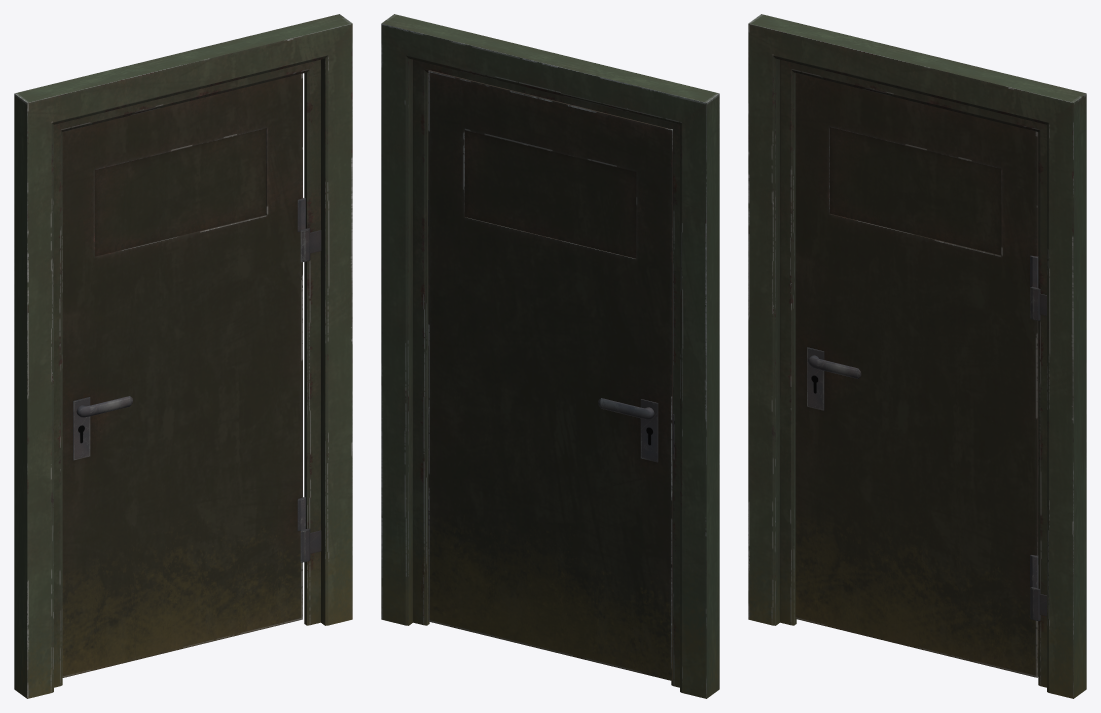
Rendered from door.glb.
3 renders of one model, left to right at view 1: azimuth 30°, elevation 25°; view 2: azimuth 150°, elevation 25°; view 3: azimuth 330°, elevation 25°, orthographic.
Parts seen in each view (by area): view 1: door, frame, handle; view 2: door, frame, handle; view 3: door, frame, handle.
Part boxes in pixels (box(x1,y1,x2,y2)): door: box(62, 73, 305, 677); frame: box(14, 14, 352, 698); handle: box(76, 396, 132, 417); door: box(428, 70, 674, 680); frame: box(381, 14, 719, 698); handle: box(598, 398, 654, 419); door: box(795, 73, 1038, 677); frame: box(748, 14, 1086, 698); handle: box(808, 355, 861, 378).
Size of the model in its own units: 105 by 183 by 7.33.
Materials: 1 (1 with a texture image).
